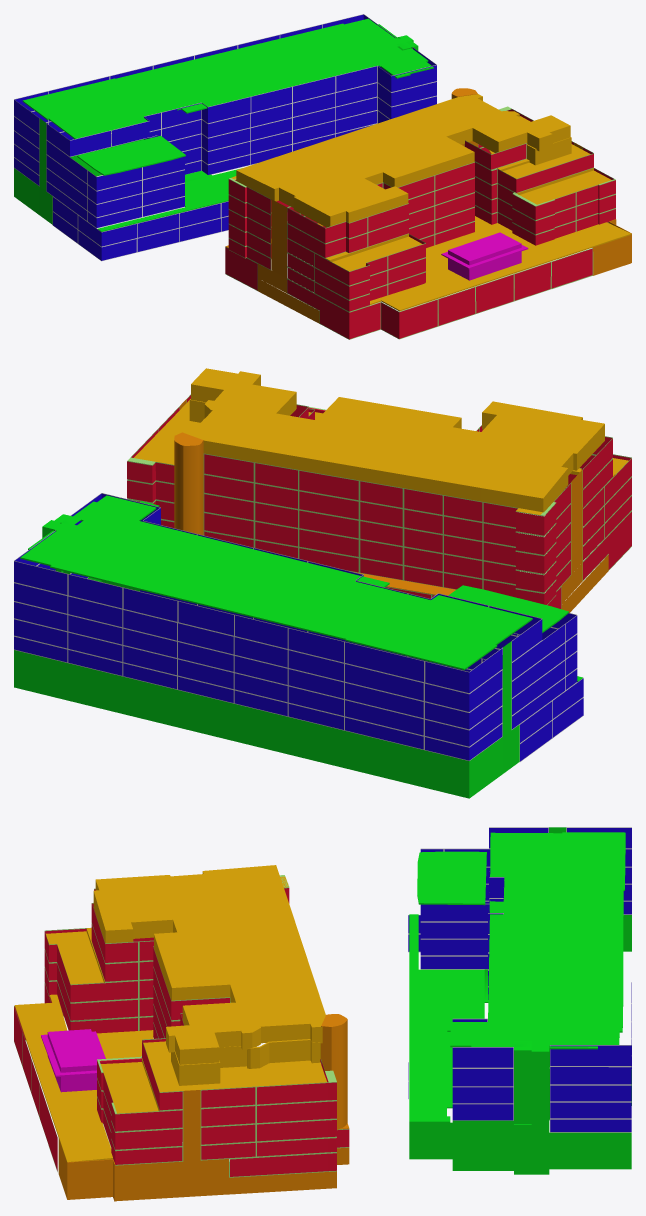
The model's file is loft_13_05.glb.
3 views of the same model, one above another, from view 1: azimuth 30°, elevation 25°; view 2: azimuth 150°, elevation 25°; view 3: azimuth 270°, elevation 25° (orthographic). The views are drawn at different scales.
Visible parts, largest first — view 1: SM_Roof_02, SM_Roof_01, Build1_Divider_01, Build2_Divider_01, Build1_Divider_01.001, SM_birdHhouse_01, Build1_Part_13, Build1_Part_09, Build1_Part_01, Build2_Divider_01.003, Build1_Part_42, SM_Hole_01 (+71 smaller); view 2: SM_Roof_02, SM_Roof_01, Build2_Divider_01.003, Build2_Divider_01, Build1_Divider_01, Build1_Divider_01.001, Build1_Part_48, Build2_Part_70, Build2_Part_65, Build1_Part_49, Build1_Part_50, Build1_Part_51 (+79 smaller); view 3: SM_Roof_02, SM_Roof_01, SM_Hole_01, Build2_Divider_01.003, Build1_Divider_01, Build1_Divider_01.001, Build2_Divider_01.001, SM_birdHhouse_01, Build2_Divider_01, Build1_Part_59, SM_Roof_03, Build2_Part_100 (+30 smaller).
Part boxes in pixels (x1,y1,x2,y2): SM_Roof_02: (231,94,631,311); SM_Roof_01: (22,18,433,231); Build1_Divider_01: (225,106,615,339); Build2_Divider_01: (14,14,436,261); Build1_Divider_01.001: (257,88,582,323); SM_birdHhouse_01: (441,232,528,280); Build1_Part_13: (287,279,380,339); Build1_Part_09: (381,300,437,338); Build1_Part_01: (498,148,593,192); Build2_Divider_01.003: (14,139,143,224); Build1_Part_42: (287,208,367,243); SM_Hole_01: (225,219,631,275); SM_Roof_02: (134,368,628,514); SM_Roof_01: (20,495,582,681); Build2_Divider_01.003: (14,577,519,798); Build2_Divider_01: (14,493,583,761); Build1_Divider_01: (127,394,631,608); Build1_Divider_01.001: (174,399,608,612); Build1_Part_48: (483,484,570,535); Build2_Part_70: (345,642,423,681); Build2_Part_65: (425,648,502,692); Build1_Part_49: (483,504,570,554); Build1_Part_50: (483,523,570,573); Build1_Part_51: (483,542,570,592); SM_Roof_02: (14,865,328,1162); SM_Roof_01: (409,832,625,1122); SM_Hole_01: (58,1123,349,1201); Build2_Divider_01.003: (452,915,631,1174); Build1_Divider_01: (14,875,349,1177); Build1_Divider_01.001: (183,1014,347,1161); Build2_Divider_01.001: (514,827,566,1125); SM_birdHhouse_01: (41,1029,105,1092); Build2_Divider_01: (408,827,631,1132); Build1_Part_59: (230,1129,349,1176); SM_Roof_03: (409,1122,452,1159); Build2_Part_100: (550,1045,631,1065).
Size of the model in its own units: 108 by 28.52 by 114.
